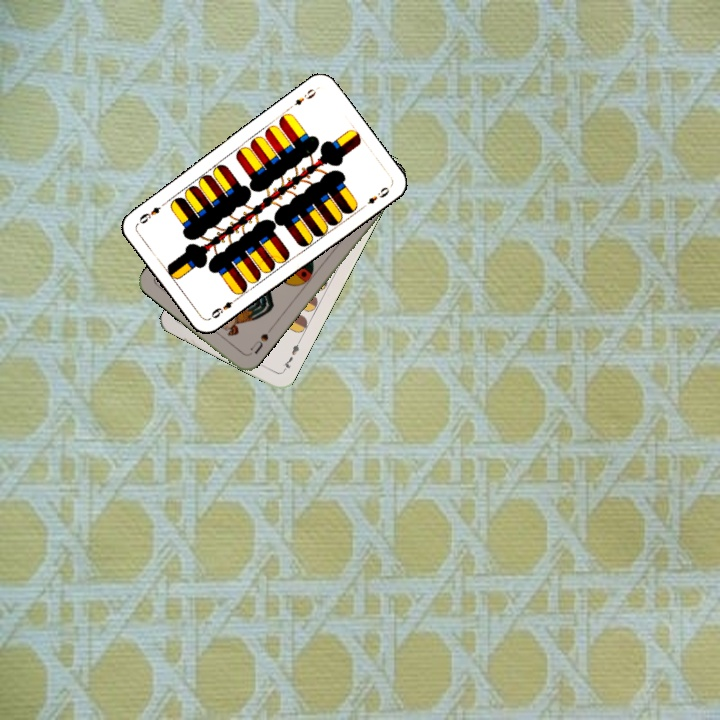E7: (279, 337, 303, 375)
E9: (205, 293, 240, 322), (284, 84, 319, 112)
SU: (245, 323, 274, 358)
